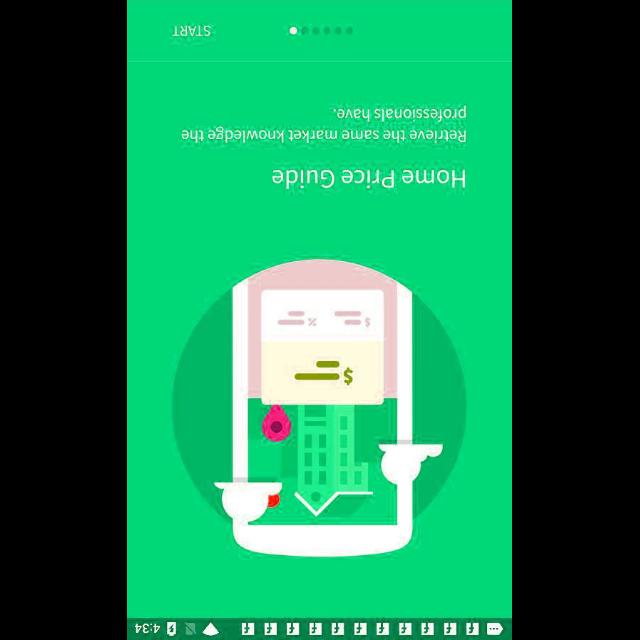image: (172, 258, 468, 556)
pageindicator: (290, 26, 354, 36)
text: (181, 106, 467, 144), (272, 168, 466, 190), (172, 25, 212, 37)
uppertaskbar: (128, 617, 512, 639)
